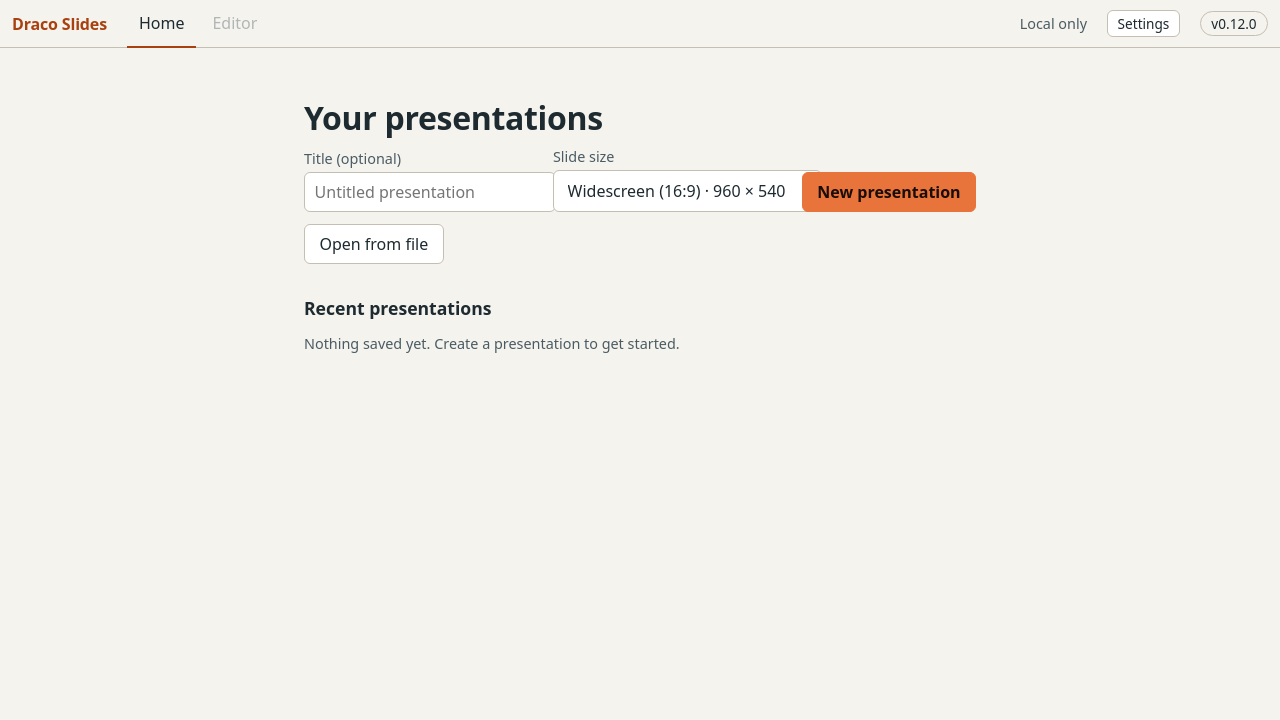
Scenario: Editor persistence › tells the user when closing the editor could not store the last edit
Click the button "New presentation": (889, 192) top-left (802, 172), bottom-right (976, 212)
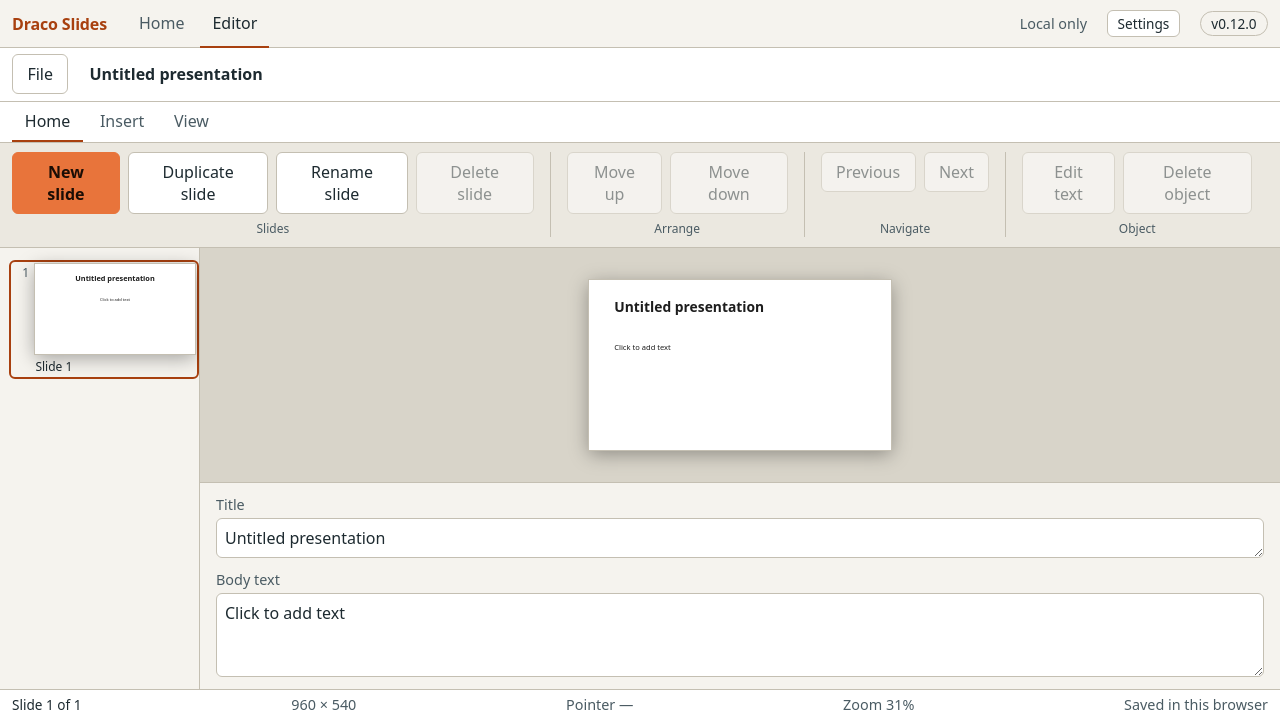
Replace the text in the field named "Presentation title" with "Lost?": (674, 74) top-left (80, 57), bottom-right (1268, 92)
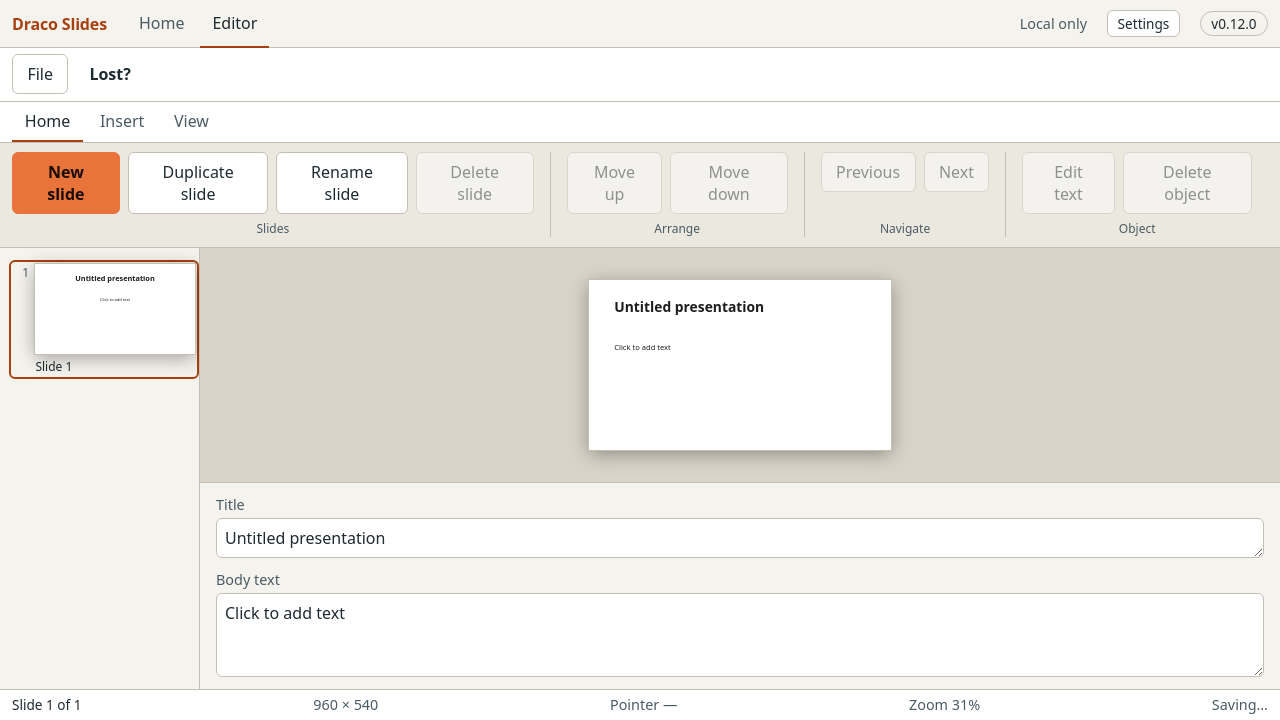
Click the button "File": (40, 74) top-left (12, 54), bottom-right (68, 94)
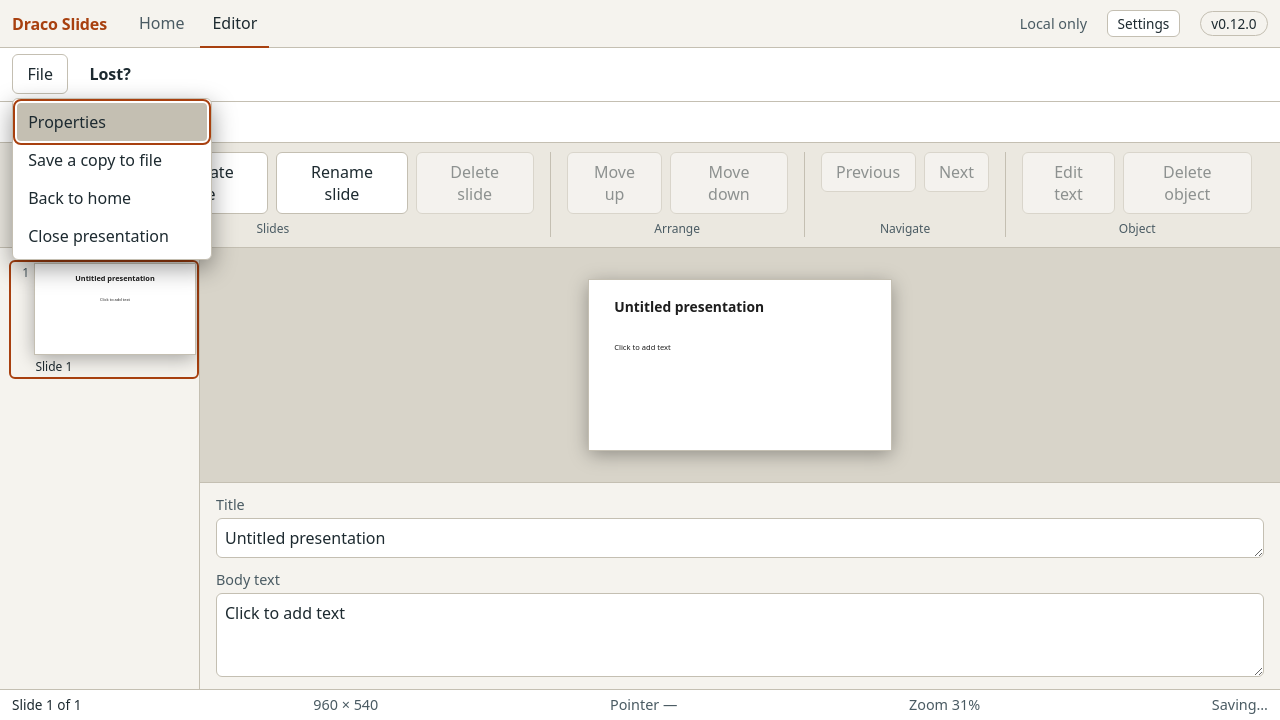
Click the menu item "Close presentation": (112, 236) top-left (17, 217), bottom-right (207, 255)
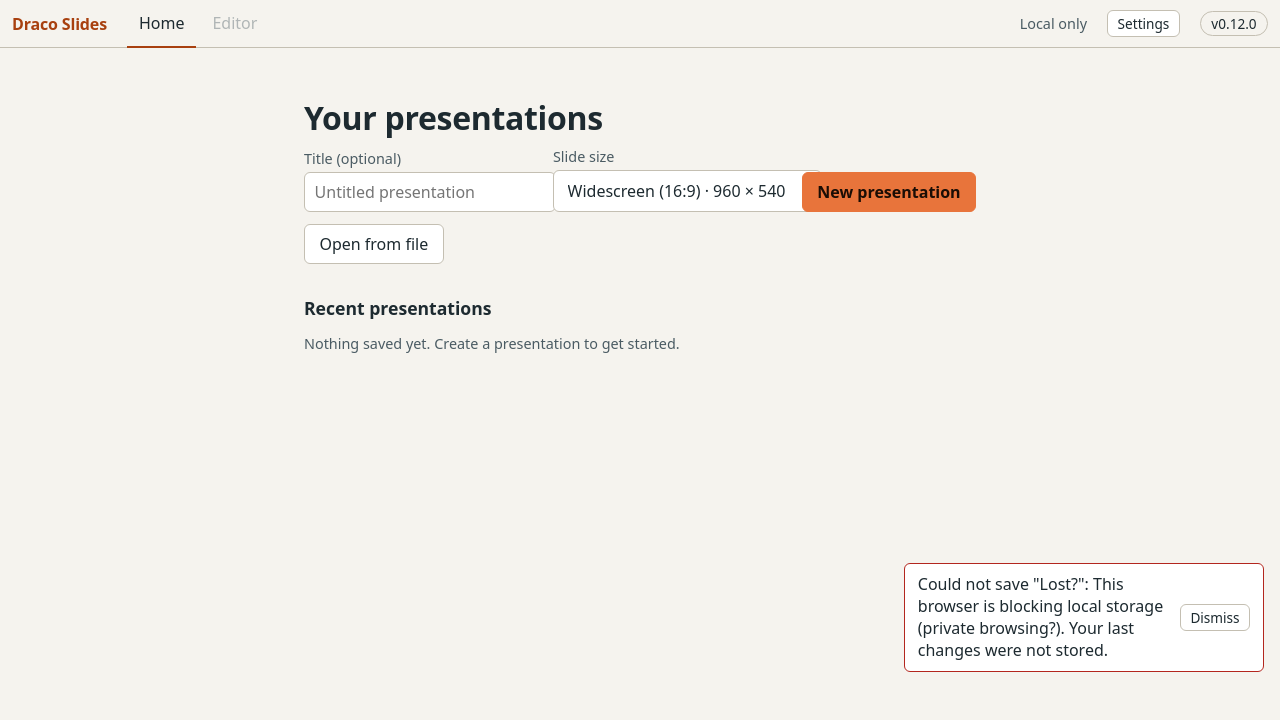
Check: the text "Could not save \"Lost?\"" is shown, box top-left (918, 573), bottom-right (1163, 661)
